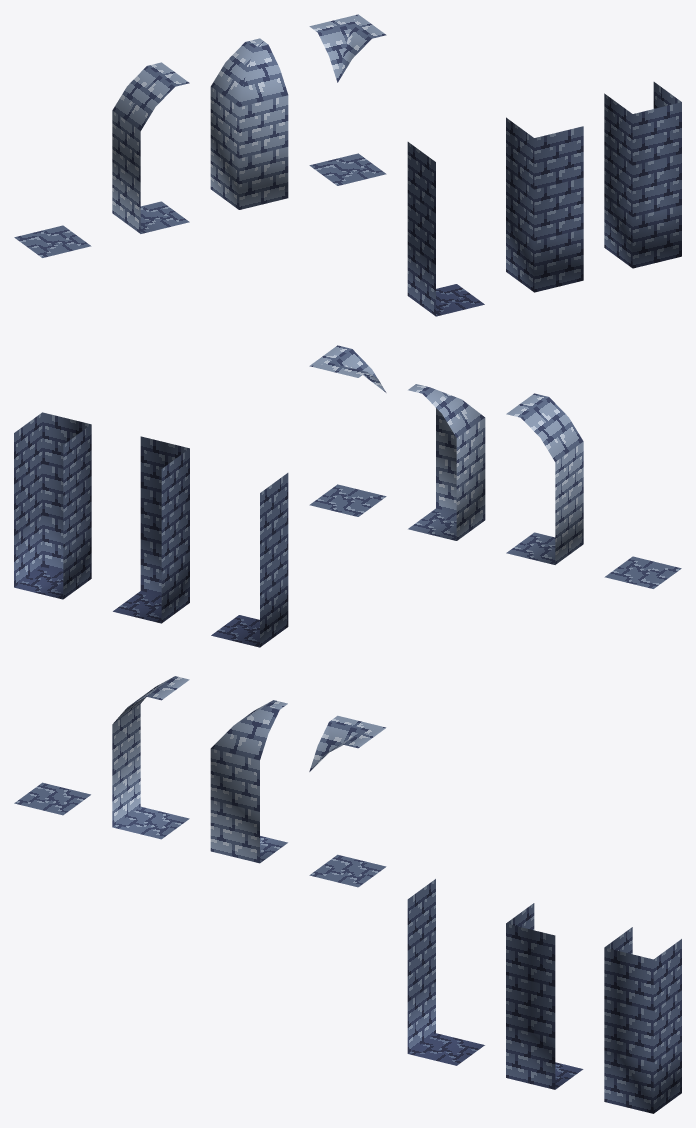
Rendered from walls-tiles.glb.
3 views of the same model, one above another, from view 1: azimuth 30°, elevation 25°; view 2: azimuth 150°, elevation 25°; view 3: azimuth 330°, elevation 25° (orthographic).
Parts seen in each view (by area): view 1: Hole-UTurn-col, Hole-Corner-col, Wall-Corner-col, Wall-Side-col, Hole-Side-col, Wall-Outer-col, Ground-col; view 2: Hole-UTurn-col, Hole-Corner-col, Wall-Corner-col, Wall-Side-col, Hole-Side-col, Wall-Outer-col, Ground-col; view 3: Hole-UTurn-col, Hole-Corner-col, Wall-Corner-col, Hole-Side-col, Wall-Side-col, Wall-Outer-col, Ground-col.
Boxes of the visible parts, <box> form: Hole-UTurn-col: <box>604,82,681,268</box>; Hole-Corner-col: <box>506,117,583,292</box>; Wall-Corner-col: <box>210,38,288,209</box>; Wall-Side-col: <box>112,62,189,233</box>; Hole-Side-col: <box>407,142,484,316</box>; Wall-Outer-col: <box>309,14,386,185</box>; Ground-col: <box>14,225,91,257</box>; Hole-UTurn-col: <box>14,412,91,599</box>; Hole-Corner-col: <box>113,436,189,623</box>; Wall-Corner-col: <box>408,384,485,540</box>; Wall-Side-col: <box>506,393,583,564</box>; Hole-Side-col: <box>211,473,288,647</box>; Wall-Outer-col: <box>309,345,386,516</box>; Ground-col: <box>604,556,681,588</box>; Hole-UTurn-col: <box>604,927,681,1113</box>; Hole-Corner-col: <box>506,903,583,1089</box>; Wall-Corner-col: <box>210,700,287,863</box>; Hole-Side-col: <box>407,879,484,1065</box>; Wall-Side-col: <box>112,676,189,839</box>; Wall-Outer-col: <box>309,715,386,887</box>; Ground-col: <box>14,782,90,815</box>.
Bounding box in the file's own units: 13 × 5.7 × 1.
Materials: 1 (1 with a texture image).
